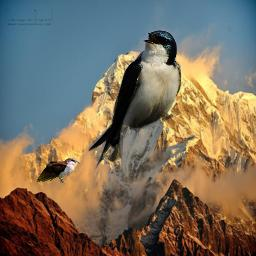Cuckoo: (36, 141, 80, 184)
Swallow: (88, 30, 181, 169)
